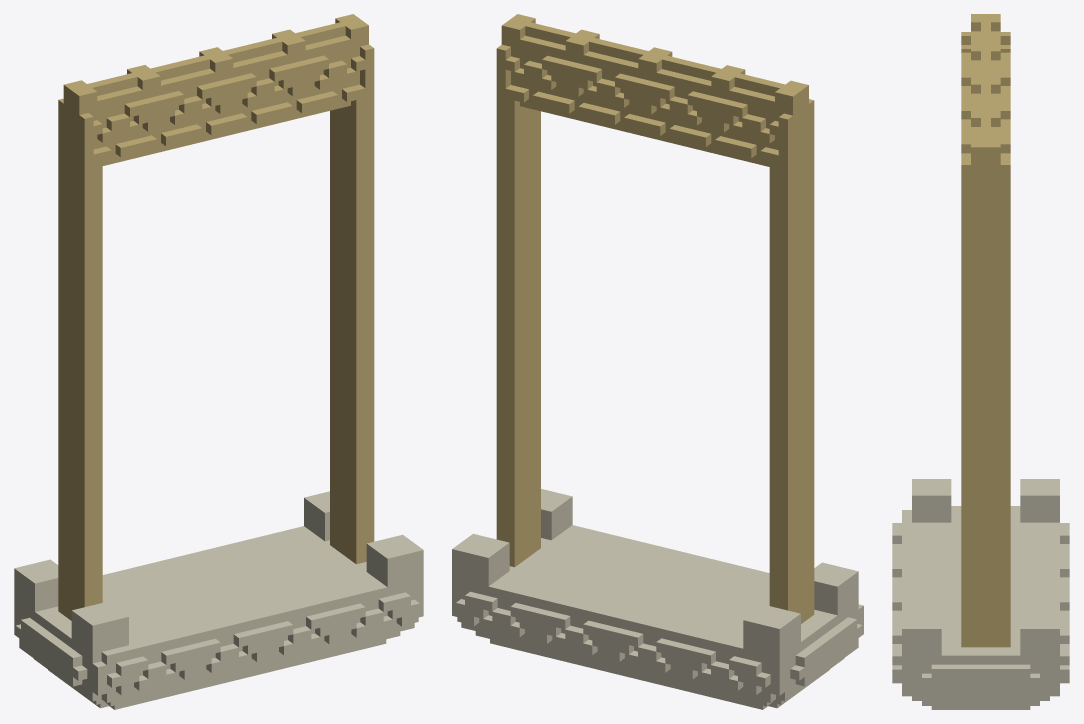
3 views of the same model, side by side, from view 1: azimuth 30°, elevation 25°; view 2: azimuth 150°, elevation 25°; view 3: azimuth 270°, elevation 25° (orthographic). The views are drawn at different scales.
Visible parts, largest first — view 1: 台阶_门框; view 2: 台阶_门框; view 3: 台阶_门框.
Boxes of the visible parts, x1,y1,x2,y2 form: 台阶_门框: (14,14,423,709); 台阶_门框: (452,14,863,709); 台阶_门框: (892,14,1069,709).
Size of the model in its own units: 38 by 63 by 18.
